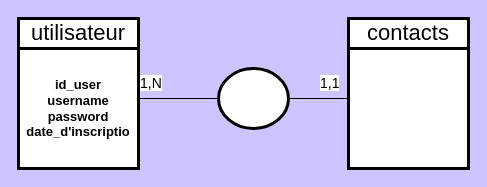
Some shapes in this 487 by 187 pixel diagram are drawn without their labels. The centre of each missing label's shape, as x and y in pixels:
creer: point 253,98
id_contact nom tel email adresse: point 408,108
